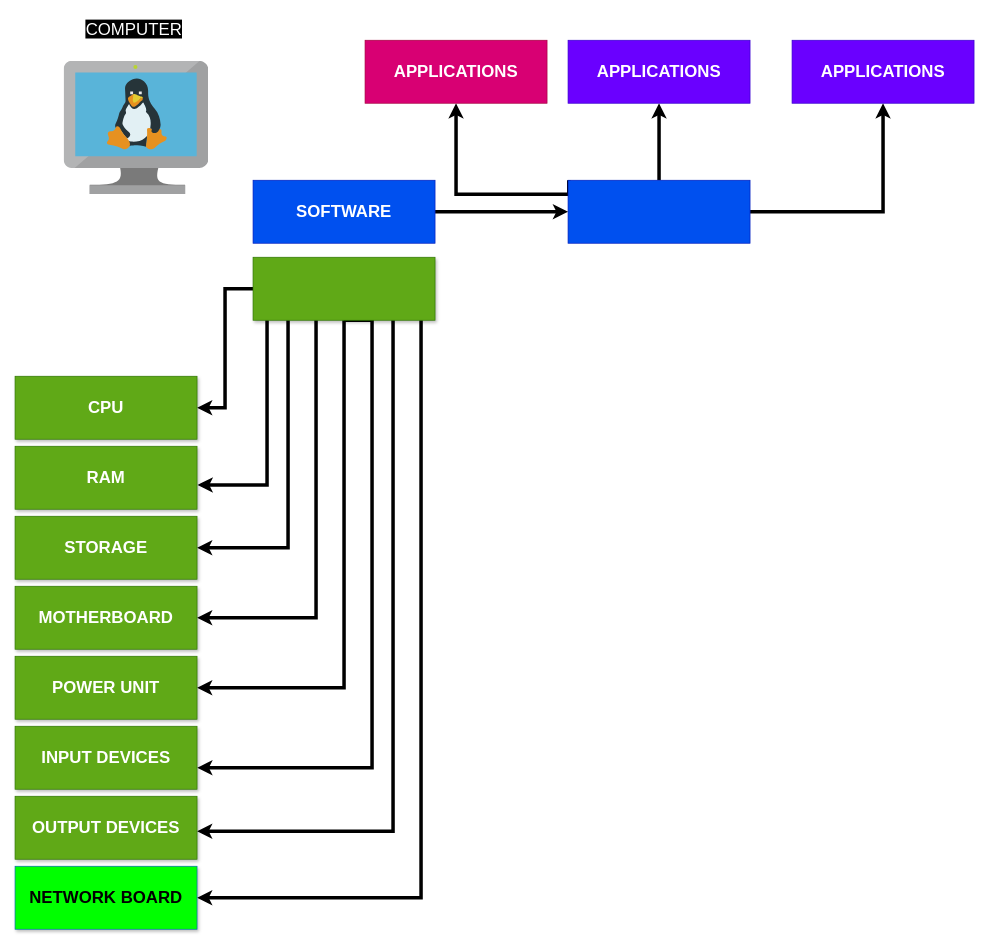
The diagram is 986 pixels wide and 946 high, and some of its shapes have lost their labels. The centre of each missing label's shape, as x and y in pixels:
"HARDWARE" belongs at pixel 344 289.
"OPERATING SYSTEM" belongs at pixel 658 211.
